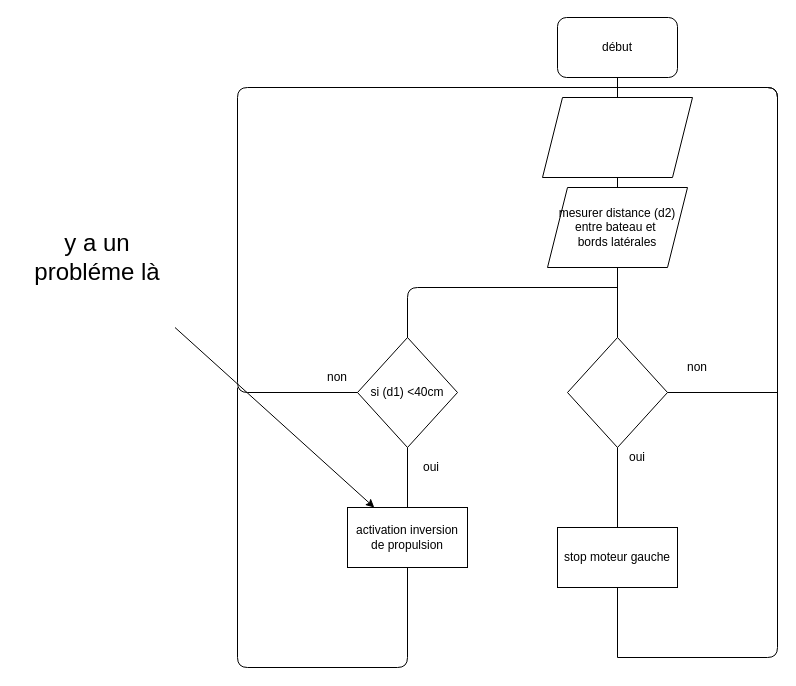
Image size: 796x686. Some labels were removed from this diagram. Here are the shapes that lost their labels. From the top down, the centre of each, then its label:
At (617,137): "mesurer distance (d1) entre le bateau et les bords frontales".
At (617,392): "si (d2) <5cm".
